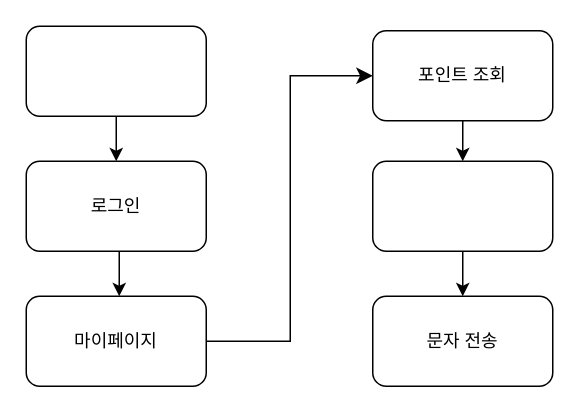
Some shapes in this 579 by 413 pixel diagram are drawn without their labels. Here are the shapes that lost their labels. From the top down, the centre of each, then its label:
(115,70): 메인페이지
(462,205): 포인트 교환 (기프티콘)
